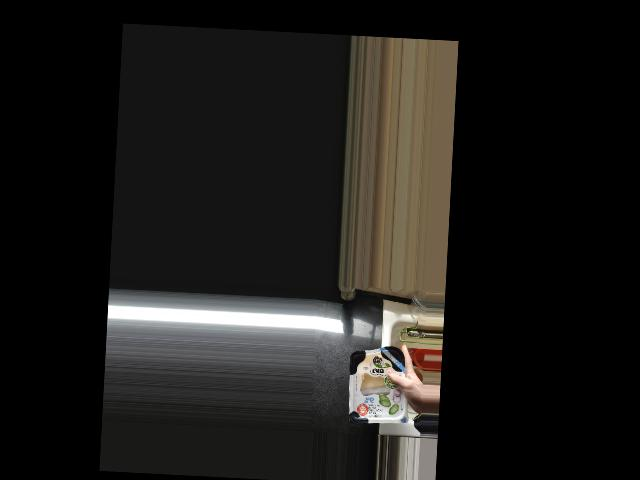cheese: (347, 344, 411, 422)
